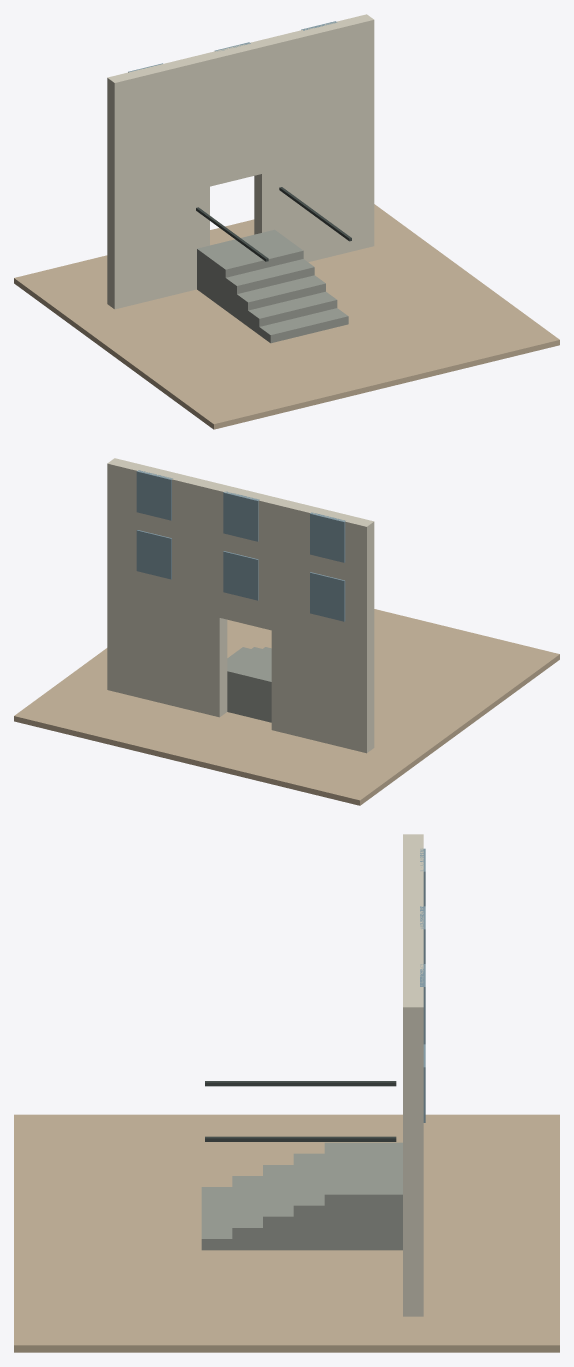
3 views of the same model, one above another, from view 1: azimuth 30°, elevation 25°; view 2: azimuth 150°, elevation 25°; view 3: azimuth 270°, elevation 25° (orthographic). The views are drawn at different scales.
Parts seen in each view (by area): view 1: GROUND_0, FAC2_8, FAC1_7, FAC3_9, LAND_18, STEP4_17, STEP3_16, STEP2_15, STEP1_14, STEP0_13; view 2: GROUND_0, FAC2_8, FAC1_7, FAC3_9, LAND_18, WIN_5, WIN_4, WIN_6, WIN_2, WIN_3, WIN_1; view 3: GROUND_0, FAC2_8, LAND_18, STEP4_17, STEP3_16, STEP2_15, STEP1_14, STEP0_13, FAC1_7, RAIL_19, RAIL_20, FAC3_9.
Part boxes in pixels (x1,y1,x2,y2): GROUND_0: [14, 204, 559, 429]; FAC2_8: [254, 14, 374, 262]; FAC1_7: [107, 54, 209, 309]; FAC3_9: [203, 41, 261, 186]; LAND_18: [197, 229, 291, 301]; STEP4_17: [214, 242, 303, 309]; STEP3_16: [225, 259, 314, 318]; STEP2_15: [237, 275, 325, 326]; STEP1_14: [248, 291, 337, 334]; STEP0_13: [259, 308, 348, 343]; GROUND_0: [14, 609, 559, 805]; FAC2_8: [107, 458, 227, 717]; FAC1_7: [271, 498, 374, 753]; FAC3_9: [219, 485, 278, 630]; LAND_18: [227, 655, 271, 722]; WIN_5: [223, 491, 259, 541]; WIN_4: [310, 512, 345, 562]; WIN_6: [136, 470, 172, 520]; WIN_2: [223, 551, 258, 600]; WIN_3: [136, 530, 171, 579]; WIN_1: [310, 572, 345, 621]; GROUND_0: [14, 1114, 559, 1352]; FAC2_8: [403, 932, 423, 1316]; LAND_18: [355, 1142, 402, 1250]; STEP4_17: [324, 1142, 355, 1250]; STEP3_16: [293, 1153, 324, 1250]; STEP2_15: [263, 1165, 293, 1250]; STEP1_14: [232, 1176, 262, 1250]; STEP0_13: [201, 1187, 232, 1250]; FAC1_7: [403, 834, 423, 897]; RAIL_19: [205, 1081, 396, 1086]; RAIL_20: [205, 1136, 396, 1141]; FAC3_9: [403, 897, 423, 932].
Bounding box in the file's own units: 8 × 5.12 × 8.
